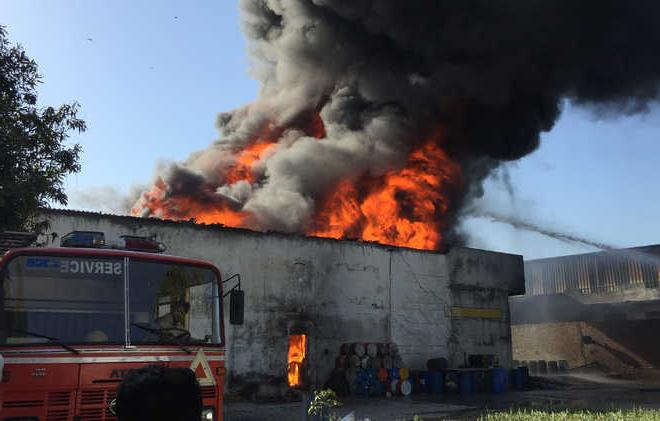fire: (294, 137, 461, 250), (153, 169, 245, 229), (285, 332, 307, 381)
